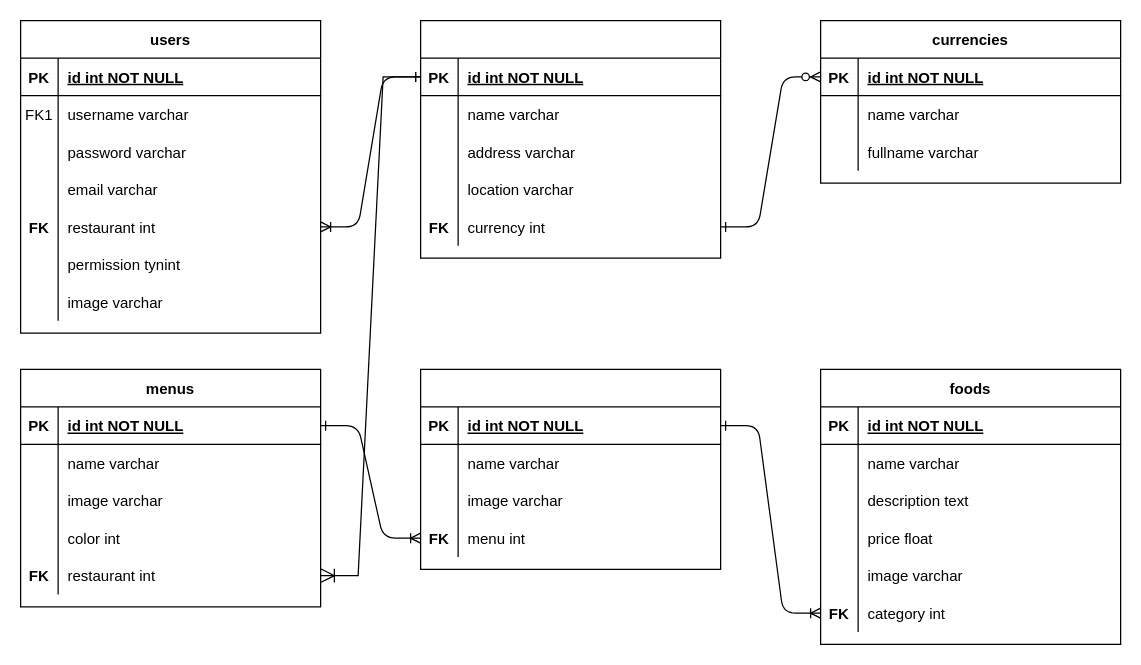
The diagram is 1141 pixels wide and 665 high, and some of its shapes have lost their labels. The shapes that lost their labels are listed below. From the top down, each one's box as (x1, y1, x2, y2) in pixels, then its label:
(419, 19, 721, 258): restaurants
(419, 368, 721, 569): categories
